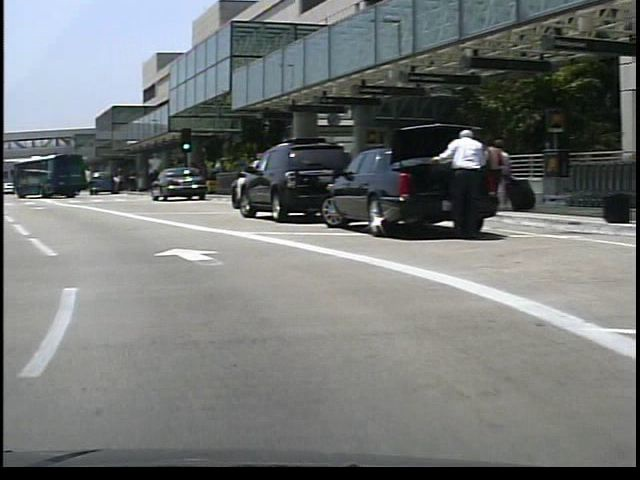person: (425, 129, 480, 237), (483, 134, 507, 217), (472, 137, 496, 216)
